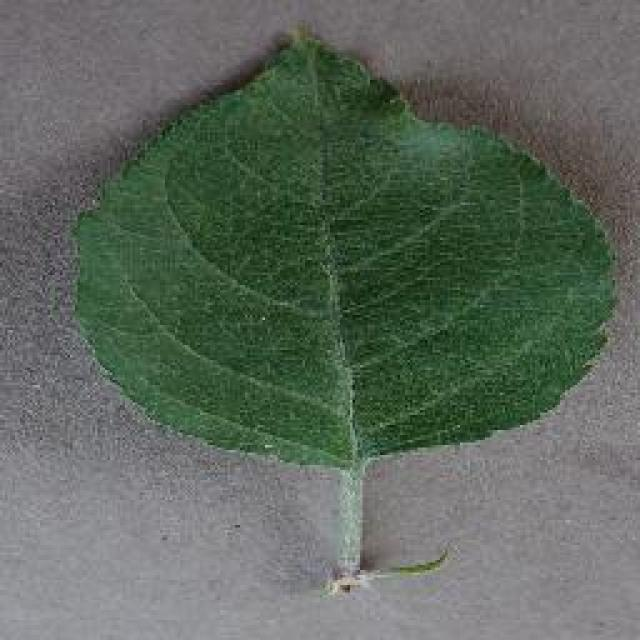apple healthy: (68, 22, 620, 592)
